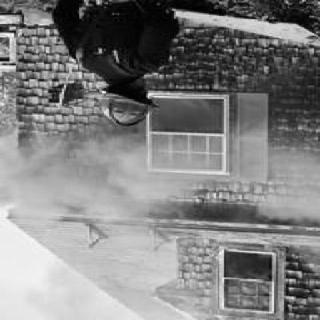Smoke: (5, 139, 267, 225)
